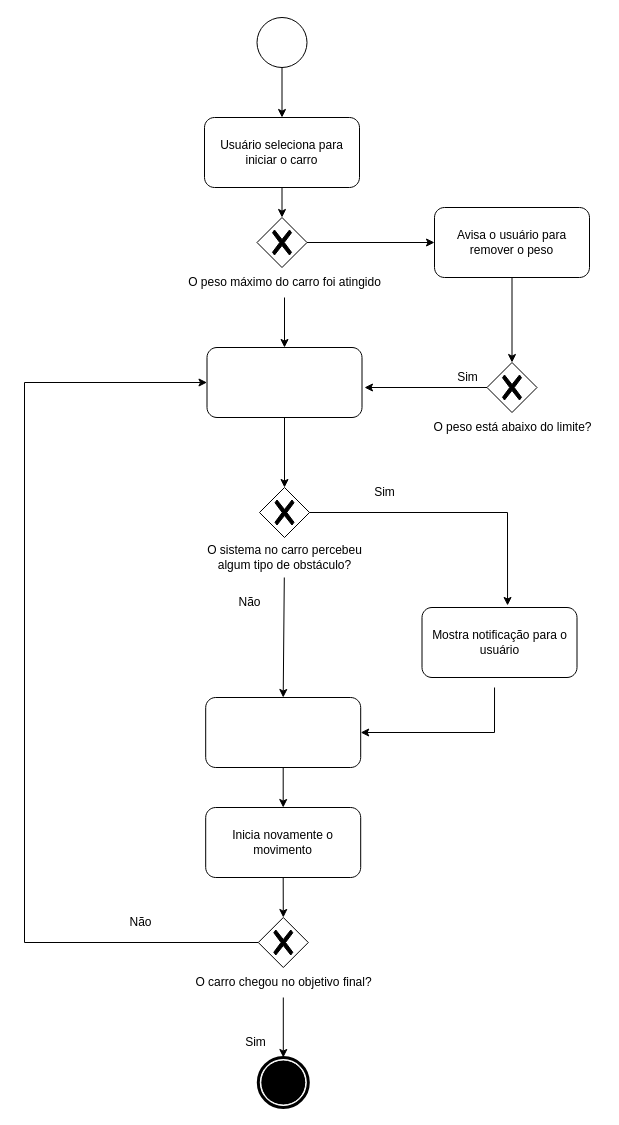
Some shapes in this 619 by 1125 pixel diagram are drawn without their labels. The box of each missing label's shape, as (x1, y1, x2, y2) in pixels:
Espera o obstáculo sair do caminho: (205, 696, 361, 768)
O carro movimenta-se em direção ao objetivo: (206, 346, 362, 418)
